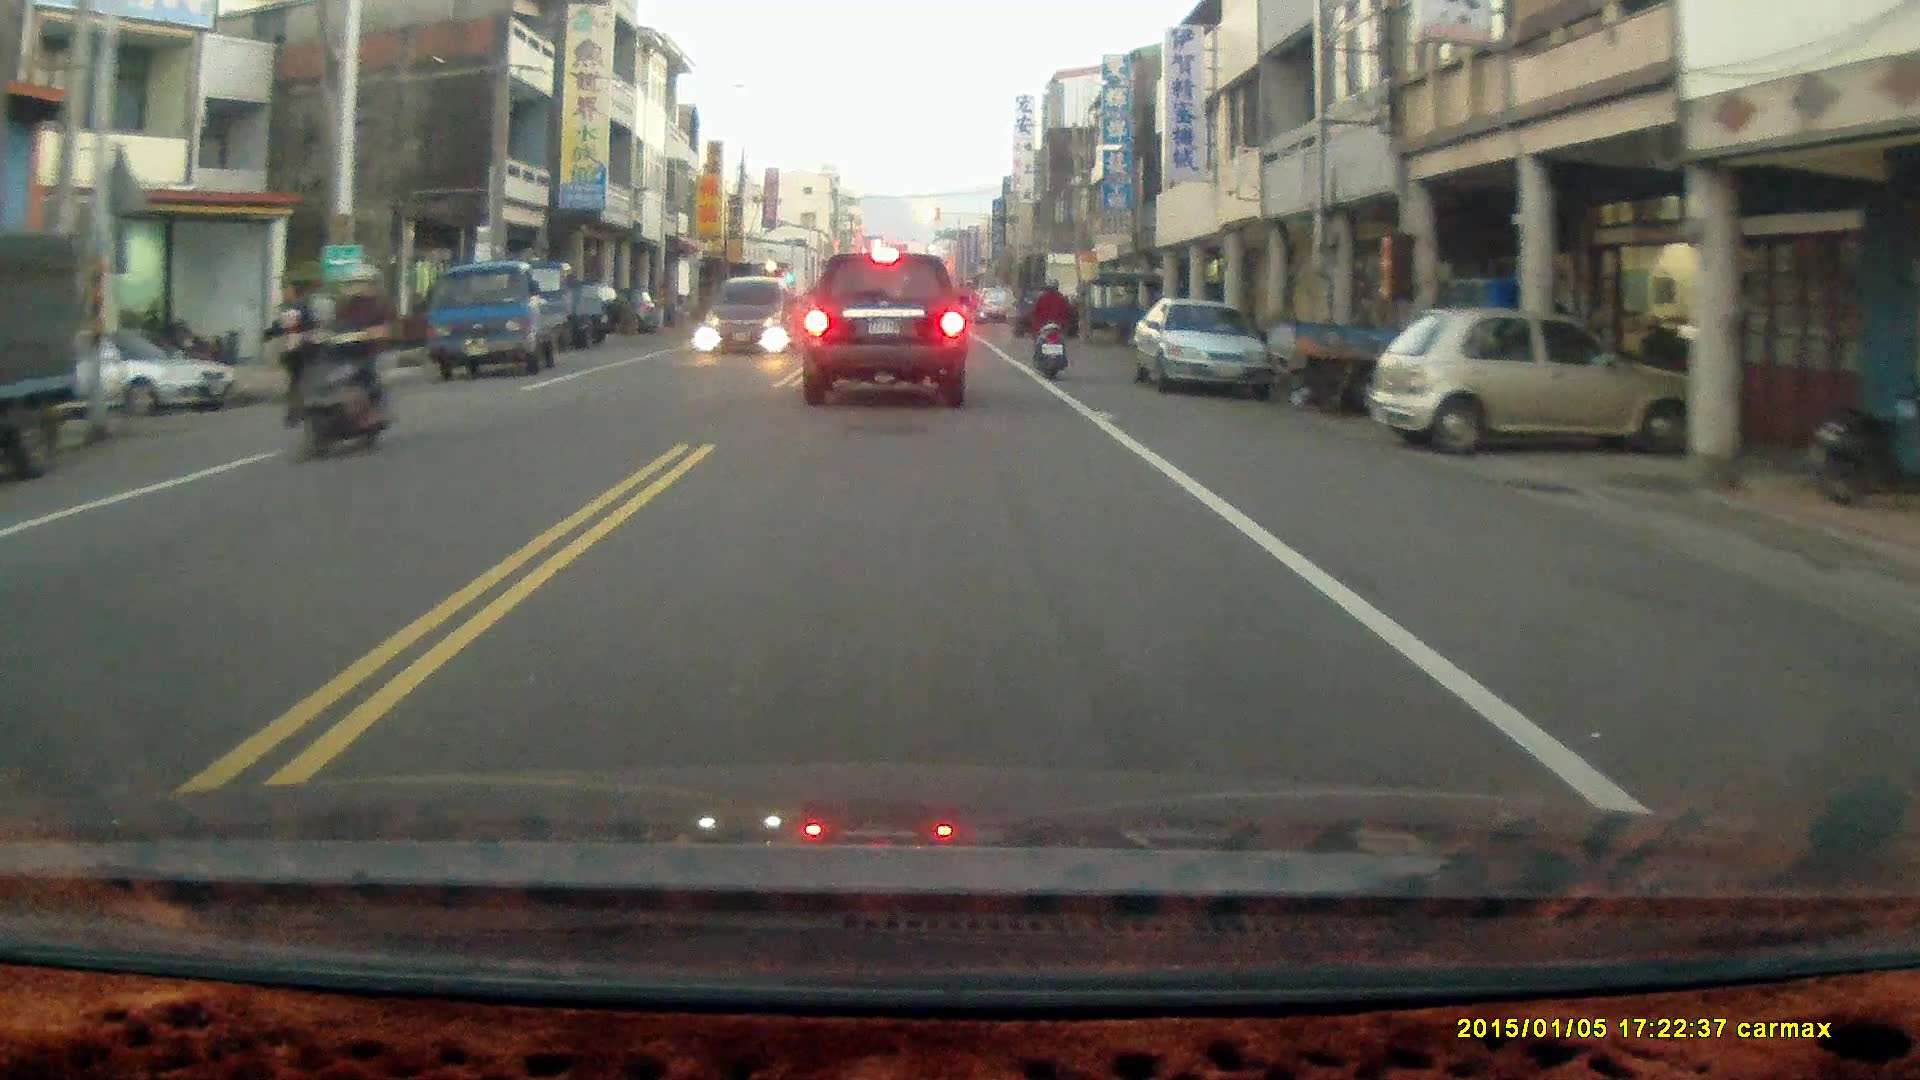pedestrian: (261, 277, 323, 426)
rider: (275, 257, 403, 462), (1029, 276, 1071, 379)
vehicle: (1381, 310, 1696, 462), (796, 252, 971, 415), (1, 229, 83, 483), (428, 265, 584, 382), (34, 323, 228, 415), (1133, 303, 1283, 399), (702, 276, 796, 357)
